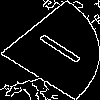I: (25, 25, 85, 66)
